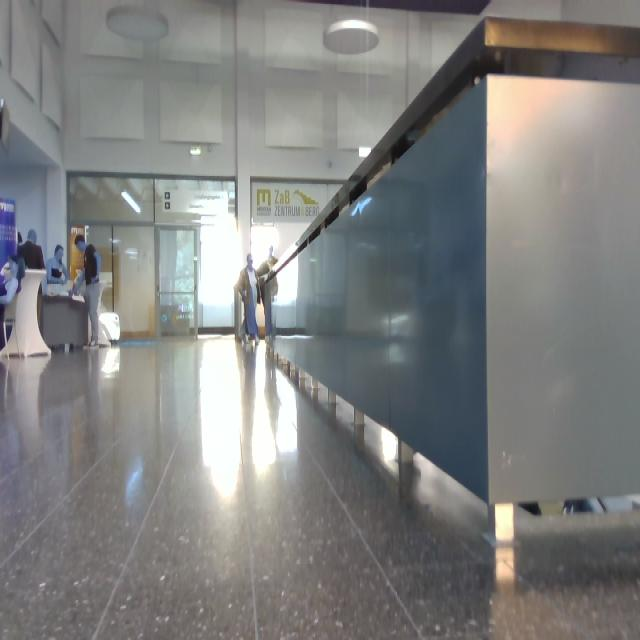banner: (1, 199, 19, 278)
desk: (41, 291, 88, 346)
door: (114, 226, 198, 335)
light bulb: (121, 13, 181, 49), (332, 22, 387, 57), (529, 37, 582, 54), (137, 193, 155, 217)
person: (1, 261, 46, 322), (79, 238, 103, 344), (240, 257, 266, 327), (269, 248, 290, 313), (38, 233, 64, 272), (64, 248, 88, 288)
staircase: (274, 54, 640, 514)
table: (1, 272, 49, 357)
tiled floor: (1, 340, 640, 640)
